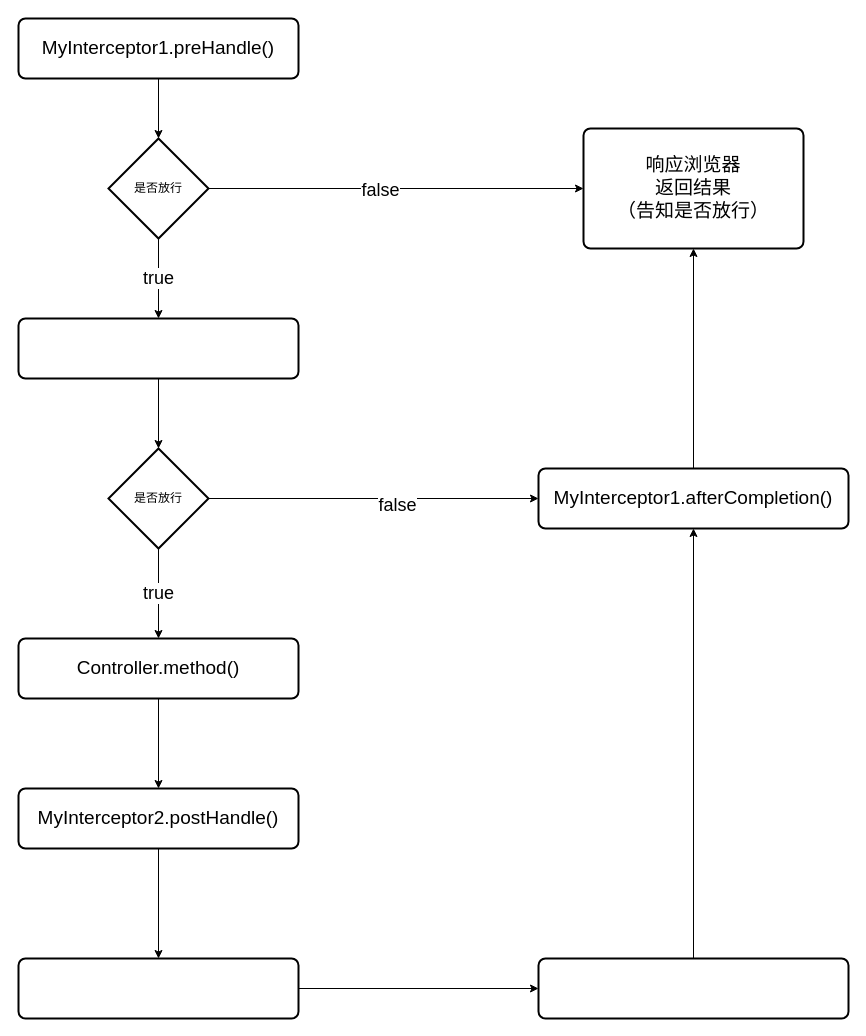
The diagram is 866 pixels wide and 1036 high, and some of its shapes have lost their labels. Here are the shapes that lost their labels. From the top down, the box of each, then its label:
(17, 317, 299, 379): MyInterceptor2.preHandle()
(17, 957, 299, 1019): MyInterceptor1.postHandle()
(537, 957, 849, 1019): MyInterceptor2.afterCompletion()
